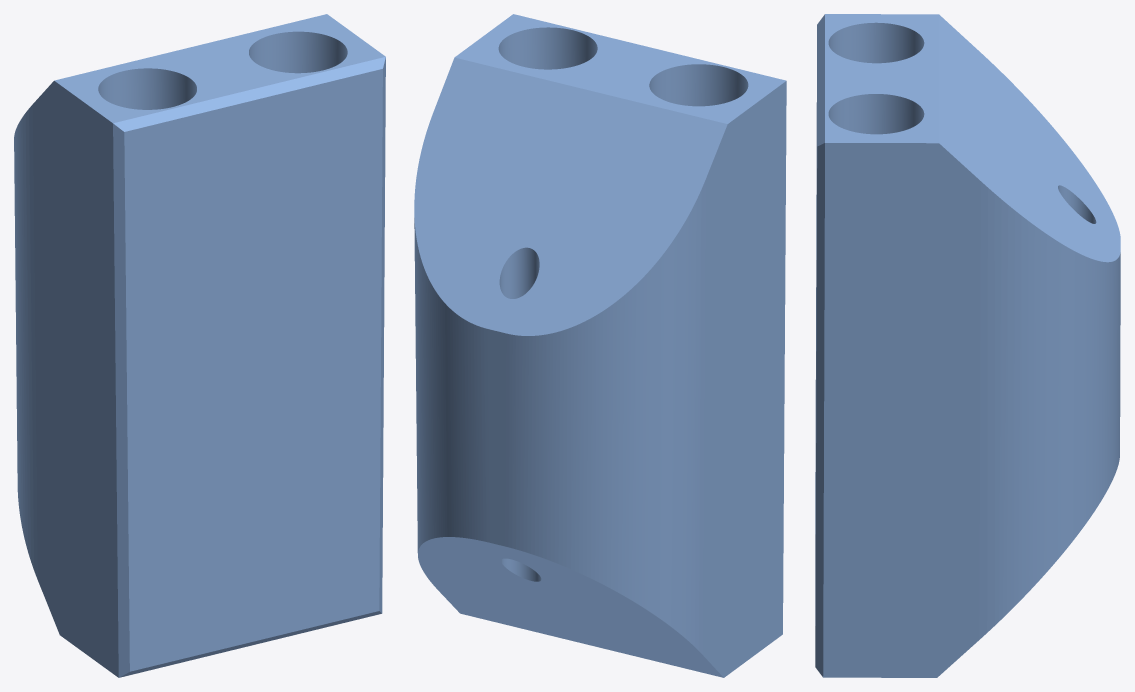
File: dedo_indice_2.dae
The picture shows the model from 3 angles, left to right: view 1: azimuth 30°, elevation 25°; view 2: azimuth 150°, elevation 25°; view 3: azimuth 270°, elevation 25°; orthographic projection. The views are drawn at different scales.
Parts seen in each view (by area): view 1: Fingerdesign-All-2.02; view 2: Fingerdesign-All-2.02; view 3: Fingerdesign-All-2.02.
Boxes of the visible parts, x1,y1,x2,y2 form: Fingerdesign-All-2.02: [14, 14, 385, 677]; Fingerdesign-All-2.02: [414, 14, 786, 677]; Fingerdesign-All-2.02: [815, 14, 1120, 677].
Size of the model in its own units: 0.0123 by 0.0124 by 0.024.
